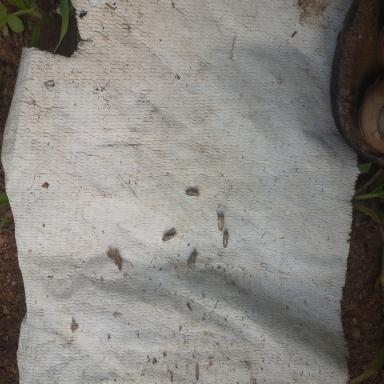pbw: (184, 186, 202, 203), (220, 229, 234, 248), (161, 229, 180, 242), (187, 249, 199, 268), (108, 246, 118, 262), (114, 248, 122, 266), (218, 214, 224, 231), (195, 362, 200, 381), (113, 312, 122, 318), (187, 302, 192, 312)
